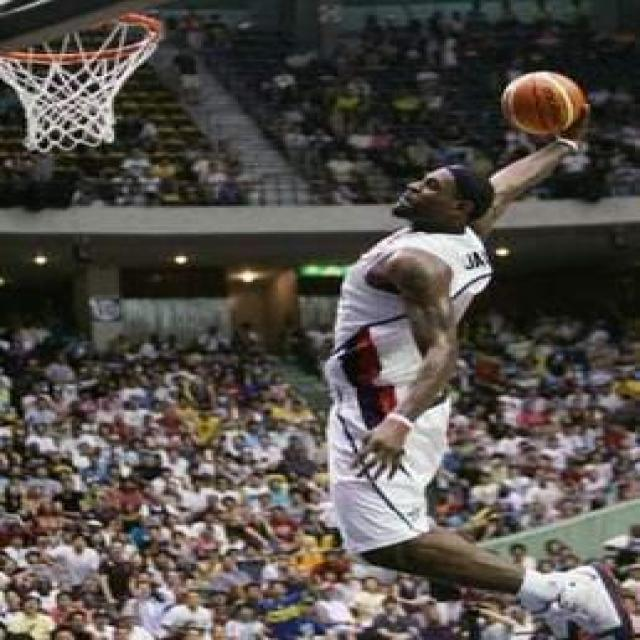basketball: (501, 72, 588, 138)
hoop: (0, 15, 166, 146)
